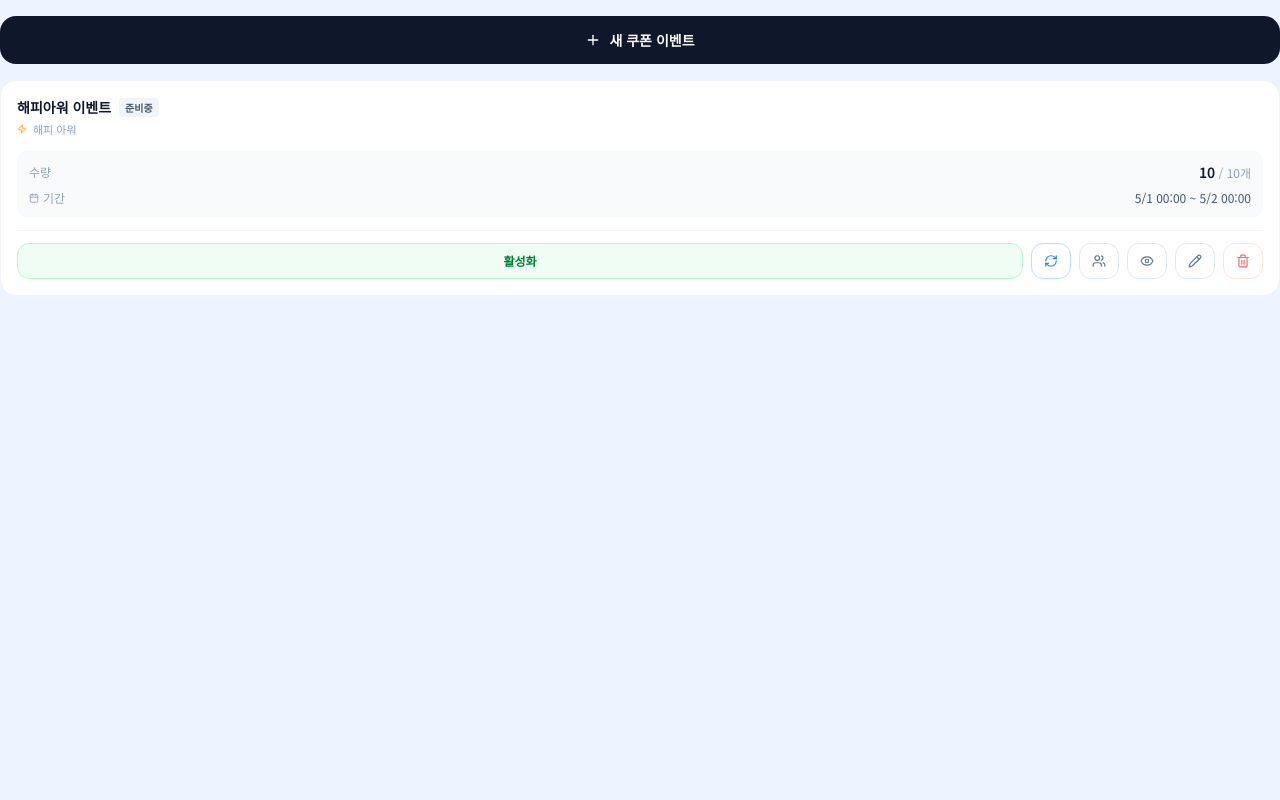
Test: CouponEventsTab › 수정 버튼 클릭 시 기존 데이터가 채워진 모달 열림
Check: the text "해피아워 이벤트" is shown, box [17,97,111,117]
What coordinates should you click on to do the following:
click the button named "수정"
I would click on:
 (1195, 260)
Its box is [1175,242,1215,278].
(page scrolled)
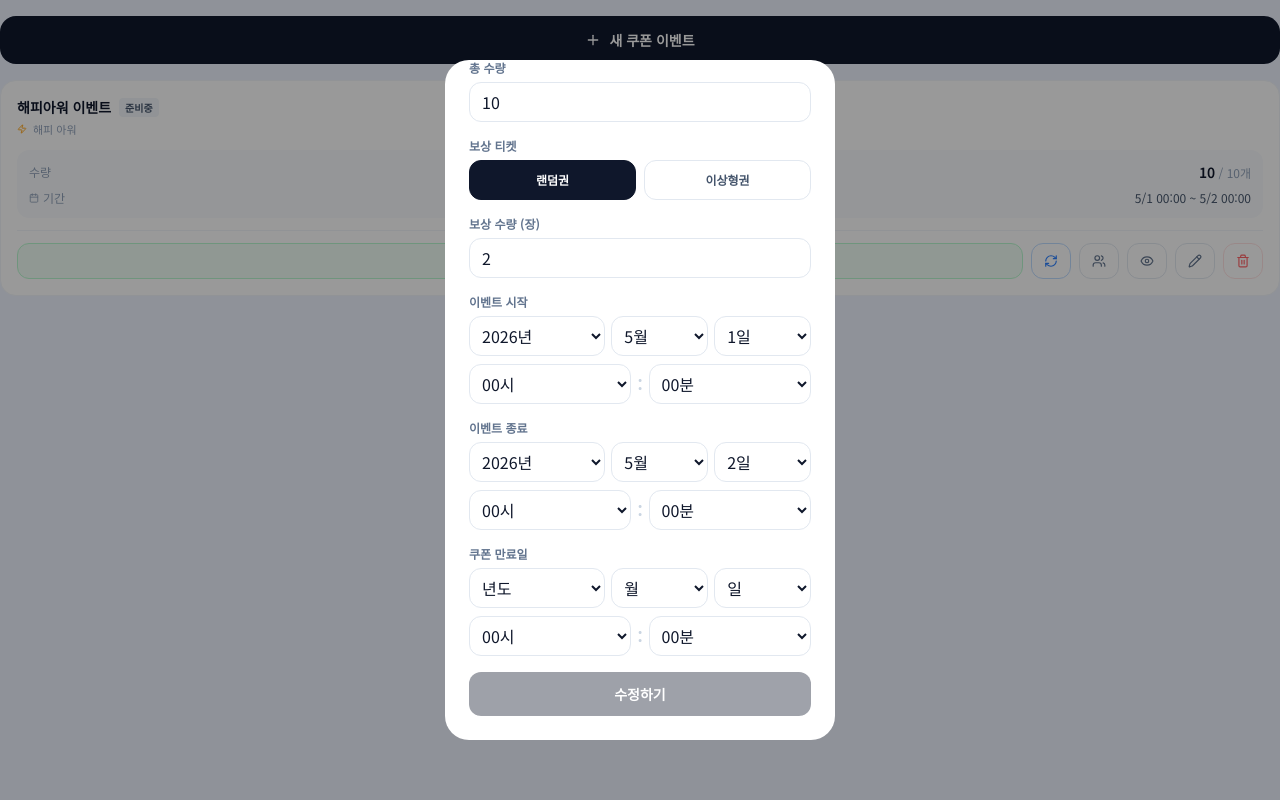
Check: the button "수정하기" is shown, box [469,672,811,716]
